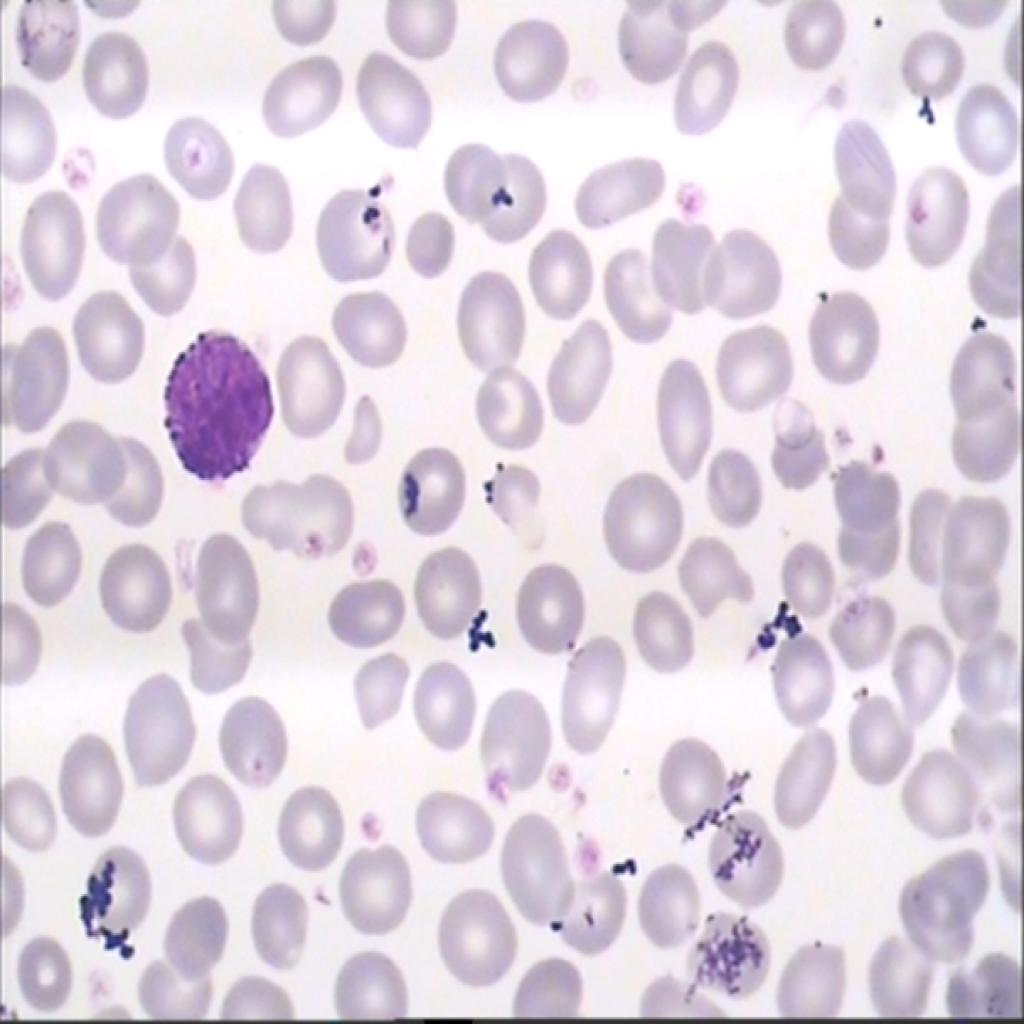Basofil: (156, 329, 282, 491)
Platelet: (812, 400, 862, 478), (560, 820, 608, 890), (350, 791, 388, 853), (666, 164, 701, 222), (56, 148, 98, 194), (475, 752, 513, 800), (539, 742, 570, 796), (818, 68, 849, 116), (348, 530, 378, 576), (868, 432, 896, 478), (900, 194, 929, 236)
